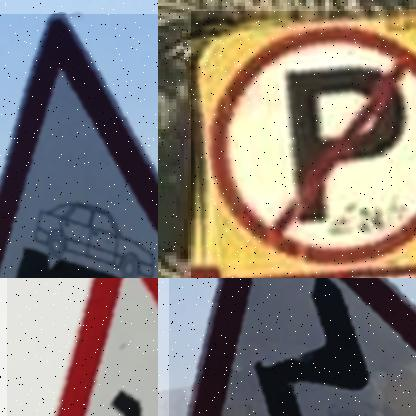Bridge Ahead: (57, 278, 158, 416)
No Parking: (190, 10, 416, 278)
Steep Descent: (0, 14, 158, 278)
Zigzag Road Ahead: (189, 278, 416, 416)
